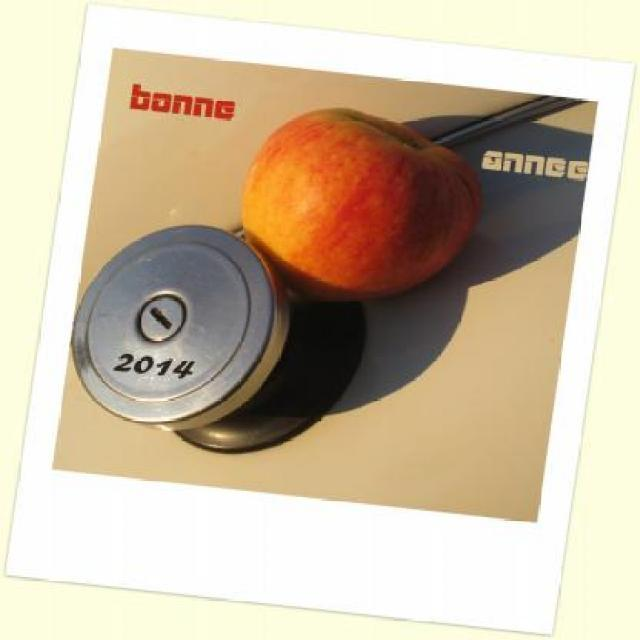Apple pie: (238, 102, 474, 296)
